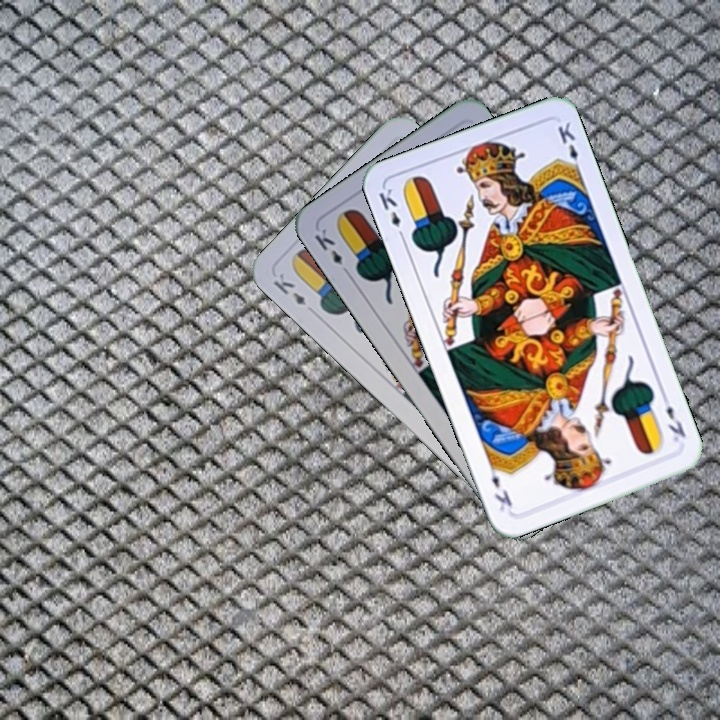EK: (310, 224, 353, 279), (374, 184, 408, 243), (657, 390, 689, 445), (268, 269, 309, 308)
